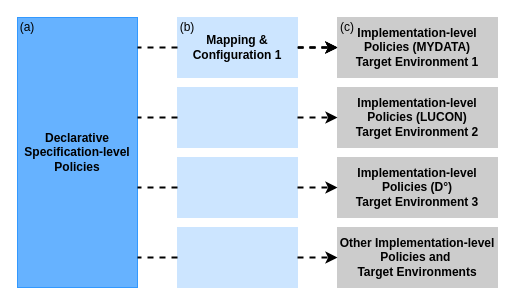
Image size: 515x305. Some labels were removed from this diagram. The shapes that lost their labels are listed below. From the top down, each one's centre as x and y in pixels, then its label:
At (x=237, y=117): "Mapping & Configuration 2".
At (x=237, y=187): "Mapping & Configuration 3".
At (x=237, y=257): "Mapping & Configuration n".
